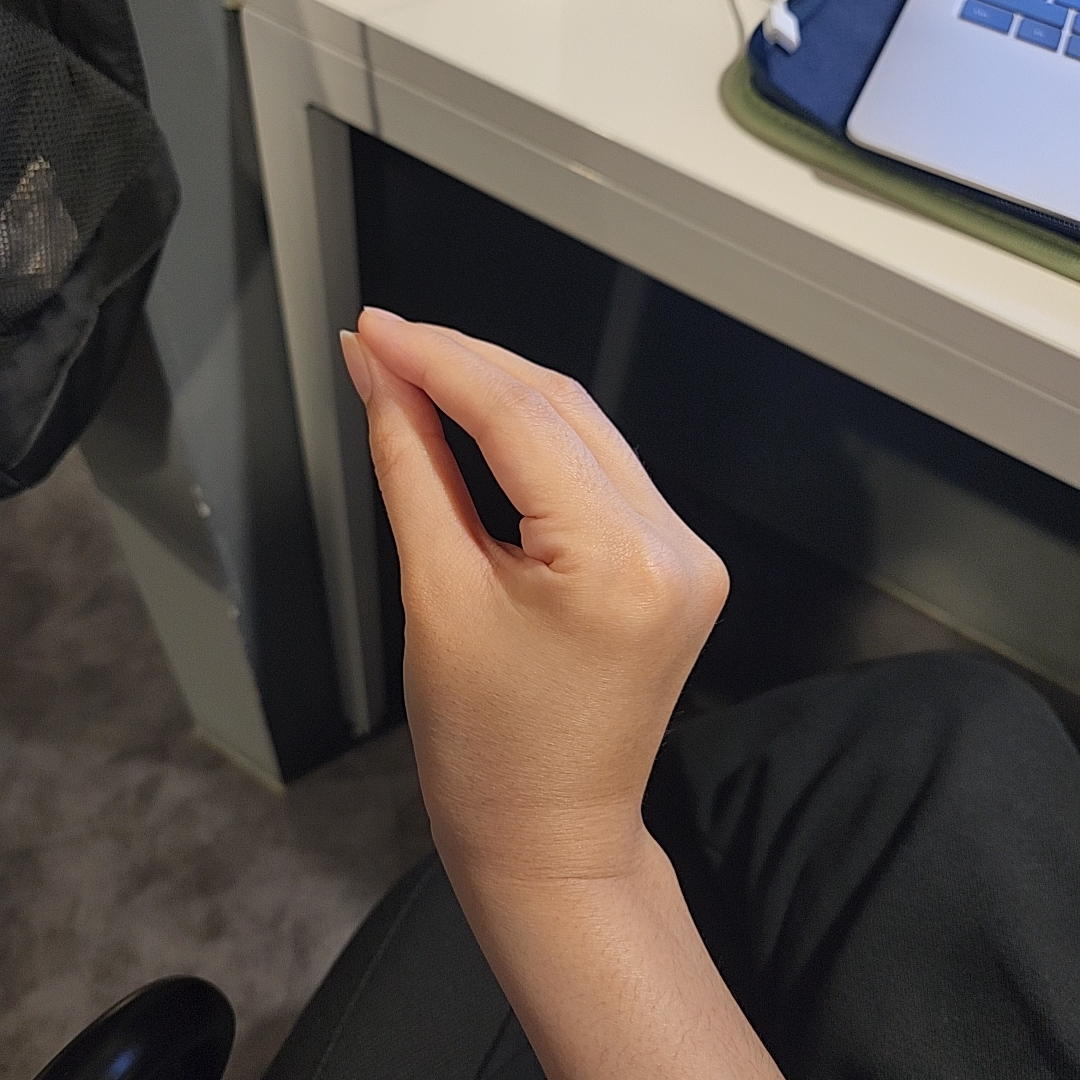happy: (336, 308, 733, 841)
